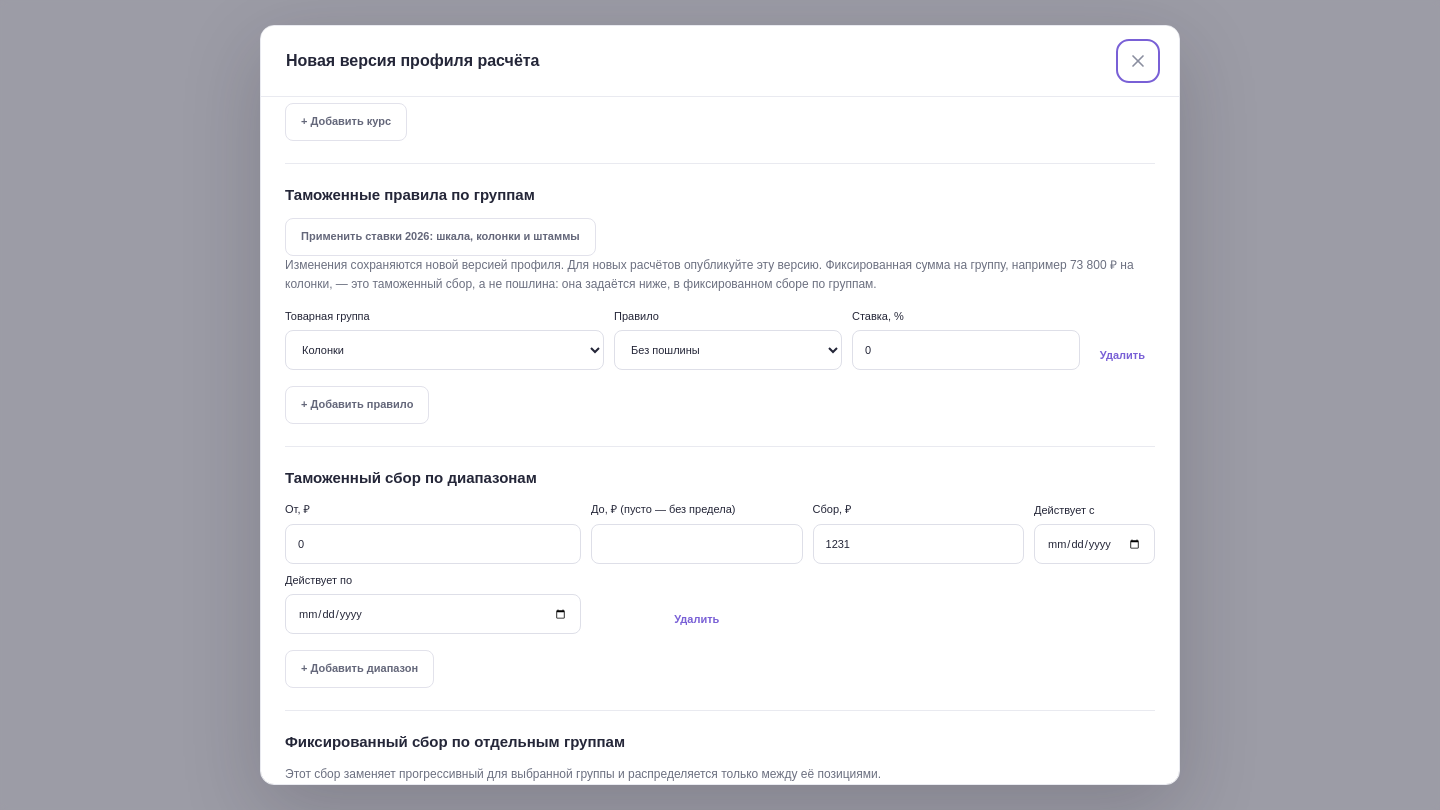
Test: itemized profile editor › adds a rule without a group shown as chosen and turns a typed rate into a percentage
The width and height of the screenshot is (1440, 810).
(page scrolled)
Expected: the dropdown named "Товарная группа правила 1" shows "Колонки", [285,330,604,370]
Click the button "+ Добавить правило" at (357,405), box [285,386,429,424]
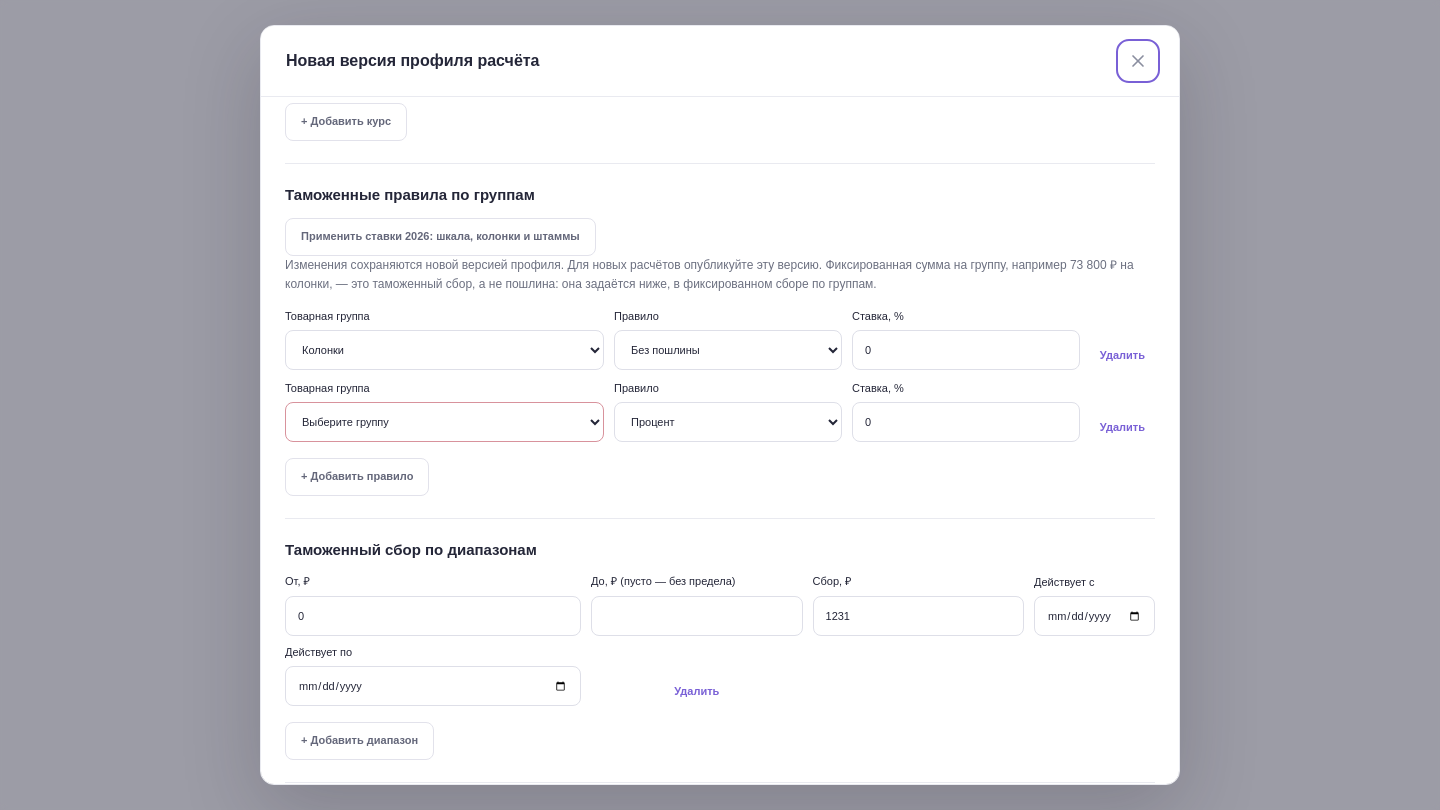
Result: the dropdown named "Товарная группа правила 2" shows "Выберите группу"
Result: the dropdown named "Правило 2" shows "Процент" at [614,402,842,442]
Select "Другое" in the dropdown named "Товарная группа правила 2" at (444,422), box [285,402,604,442]
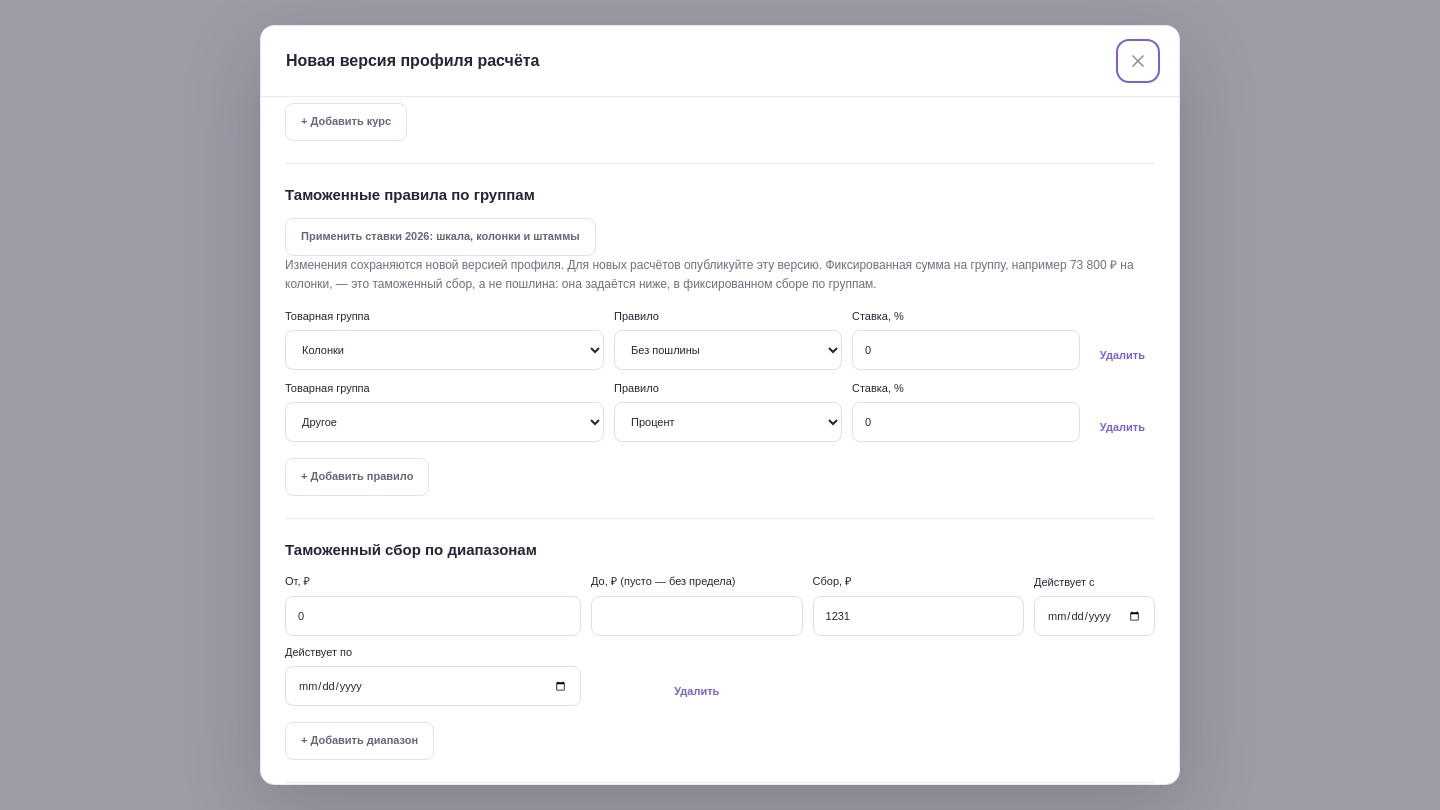
Select "Без пошлины" in the dropdown named "Правило 2" at (728,422), box [614,402,842,442]
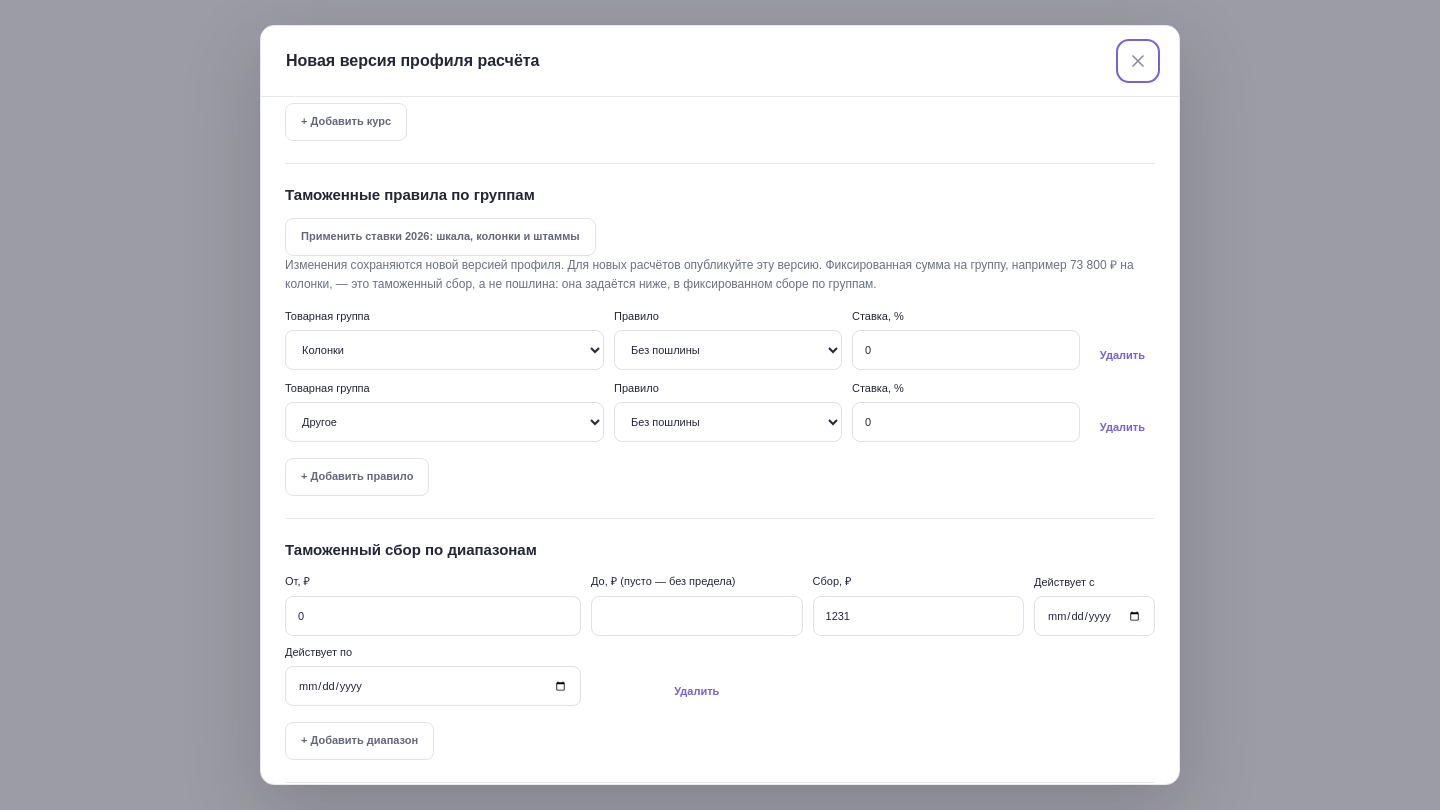
Replace the text in the field named "Ставка правила 2" with "12" at (966,422), box [852,402,1080,442]
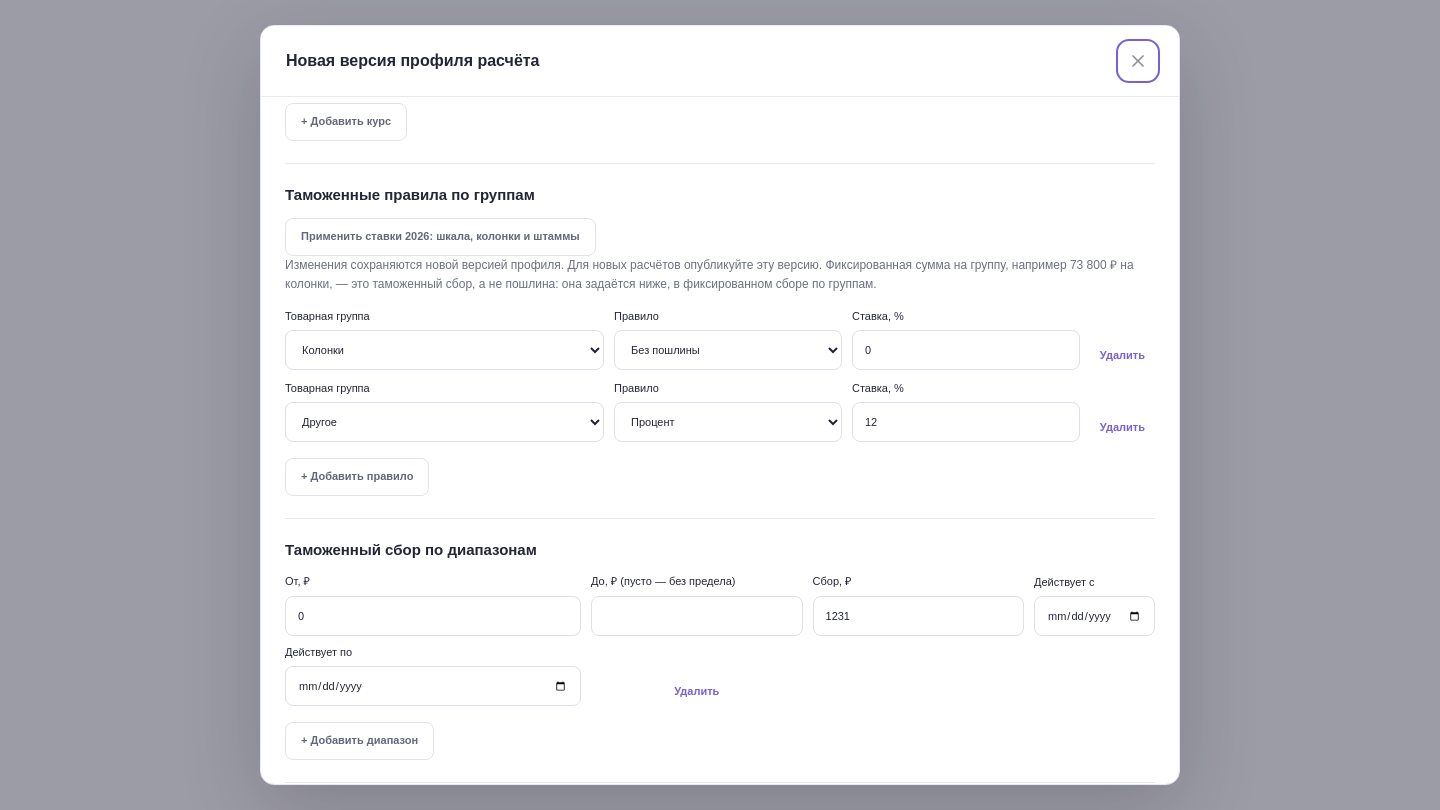
Select "Без пошлины" in the dropdown named "Правило 2" at (728,422), box [614,402,842,442]
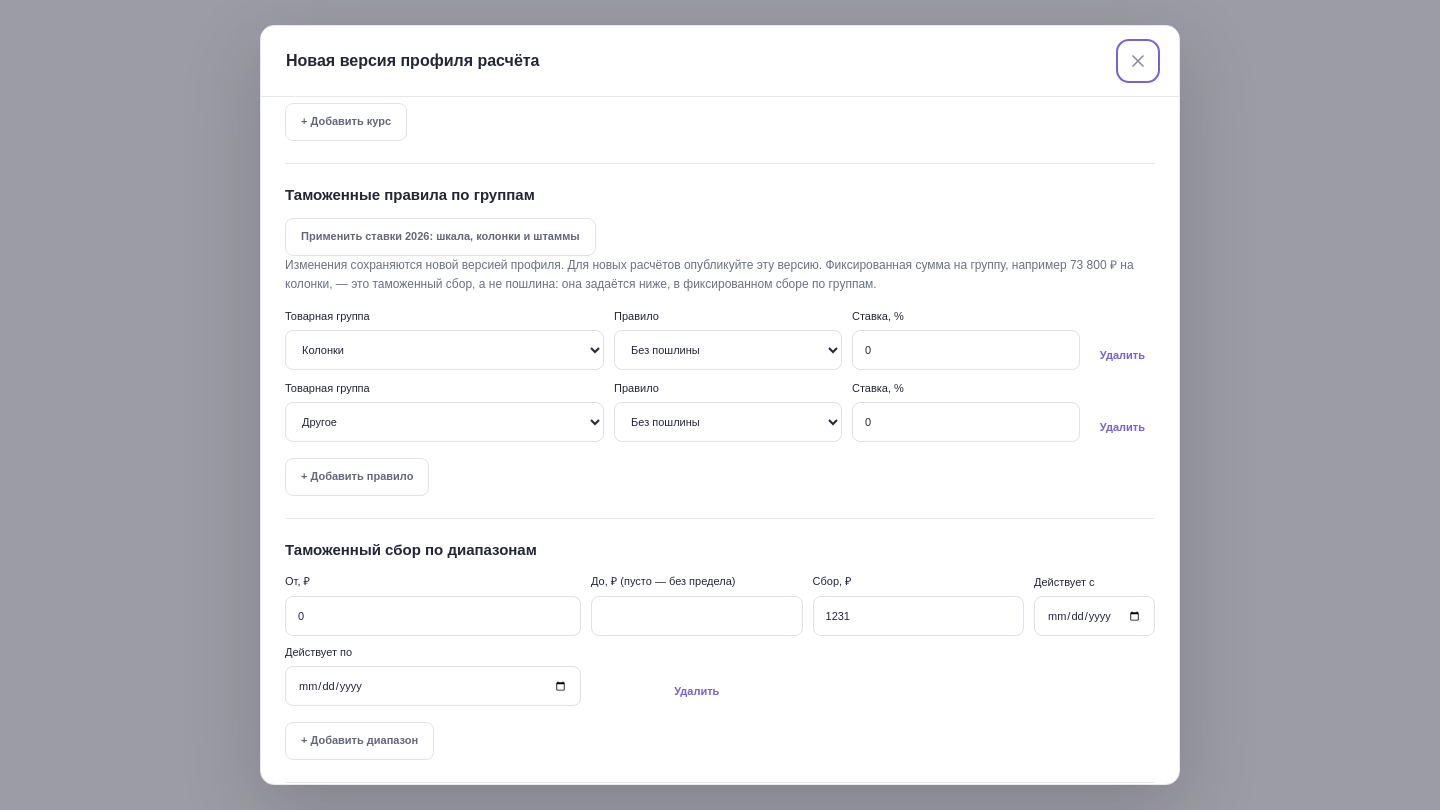
Result: the field named "Ставка правила 2" holds "0" at [852,402,1080,442]
